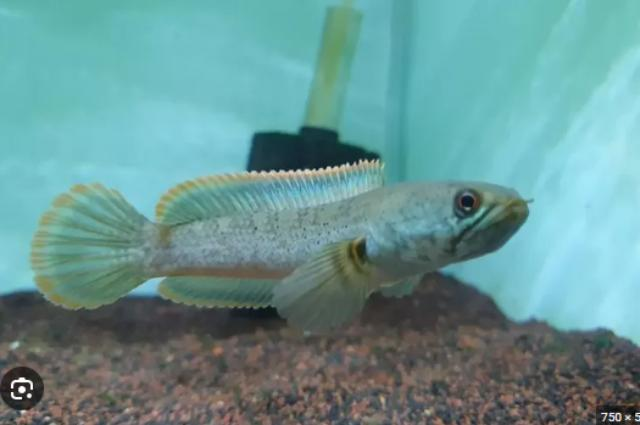Mulut: (442, 182, 538, 262)
Sirip Anal: (152, 268, 290, 316)
Sirip Dada: (270, 230, 378, 342), (381, 268, 425, 304)
Sirip Ekor: (30, 176, 156, 314)
Sirip Punggung: (150, 160, 398, 226)
